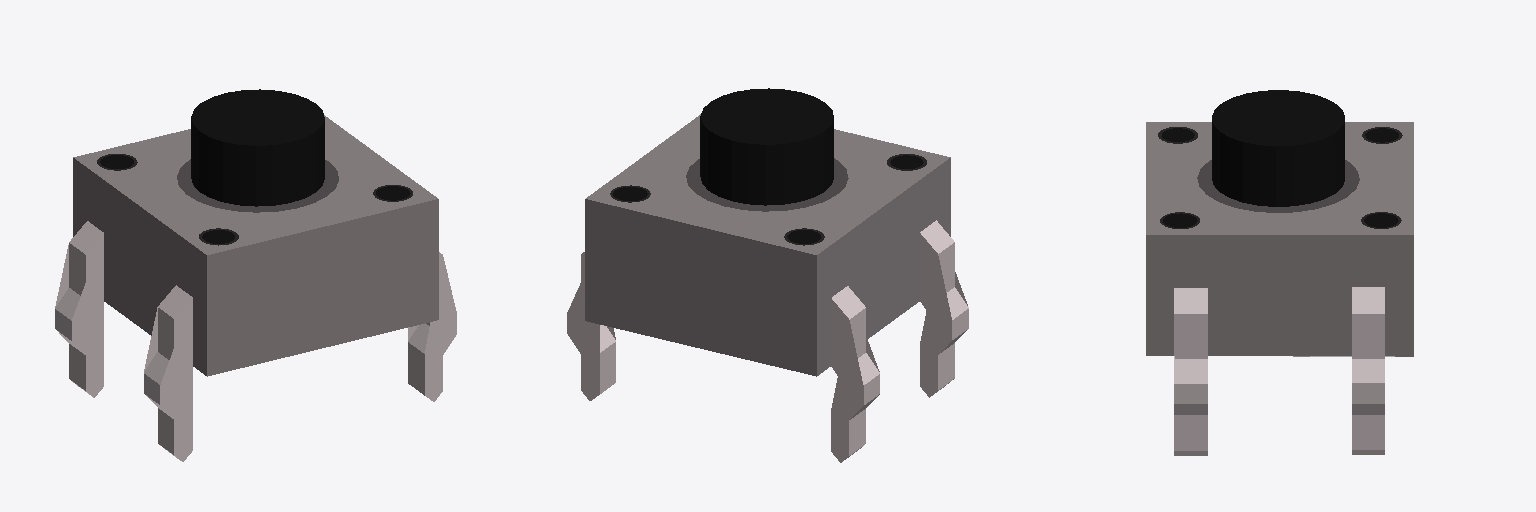
The model's file is ButtonOBJ.obj.
3 views of the same model, side by side, from view 1: azimuth 30°, elevation 25°; view 2: azimuth 150°, elevation 25°; view 3: azimuth 270°, elevation 25° (orthographic).
Visible parts, largest first — view 1: Mesh1 Model, Mesh3 Model; view 2: Mesh1 Model, Mesh3 Model, Mesh2 Model; view 3: Mesh1 Model, Mesh2 Model.
Part boxes in pixels (bbox=[...]): Mesh1 Model: bbox=[55, 89, 456, 401]; Mesh3 Model: bbox=[144, 285, 192, 461]; Mesh1 Model: bbox=[585, 88, 950, 462]; Mesh3 Model: bbox=[920, 220, 968, 397]; Mesh2 Model: bbox=[567, 252, 615, 400]; Mesh1 Model: bbox=[1146, 90, 1413, 455]; Mesh2 Model: bbox=[1352, 287, 1384, 454].
Bounding box in the file's own units: 0.0512 × 0.0457 × 0.04.